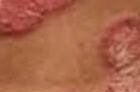plaque psoriasis: (0, 0, 140, 36), (99, 8, 140, 72)
